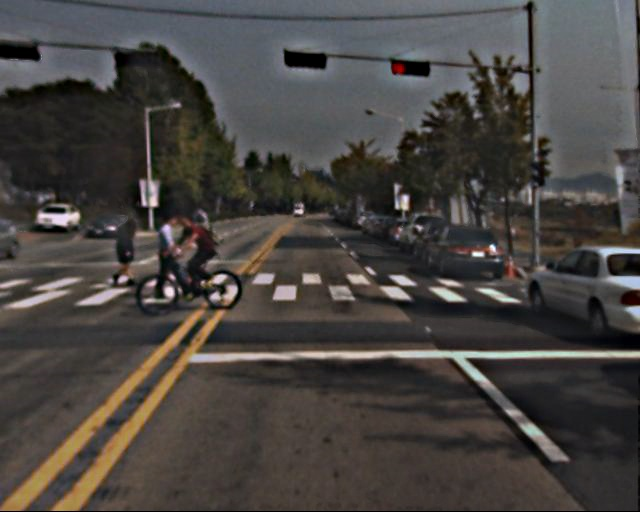person: (178, 207, 219, 298), (155, 210, 190, 297), (113, 215, 145, 288)
